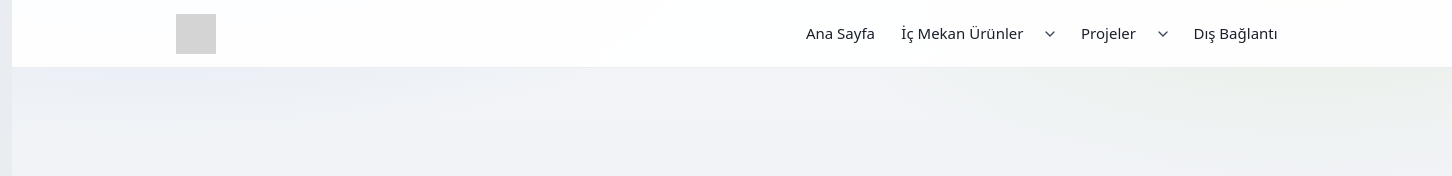
Scenario: SiteHeader › closes dropdown on Escape and outside click
The image size is (1452, 176).
Click the button "İç Mekan Ürünler": [962, 34] box [891, 16, 1034, 52]
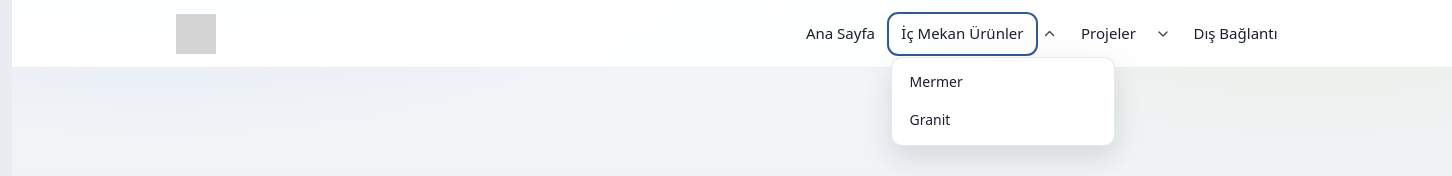
Expected: the link "Mermer" is shown, [910, 72, 963, 91]
Press Escape
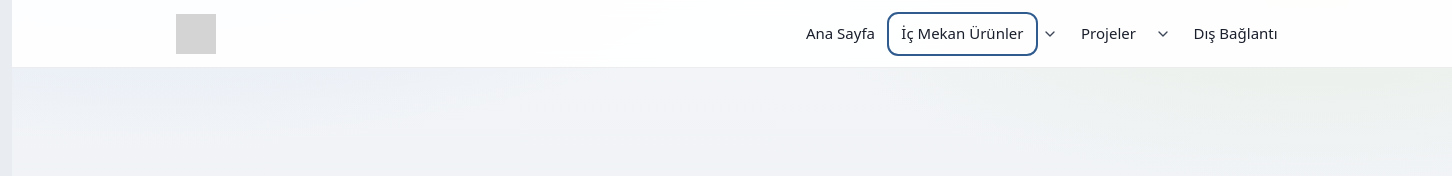
Expected: the link "Mermer" is gone
Click the button "İç Mekan Ürünler": [962, 34] box [891, 16, 1034, 52]
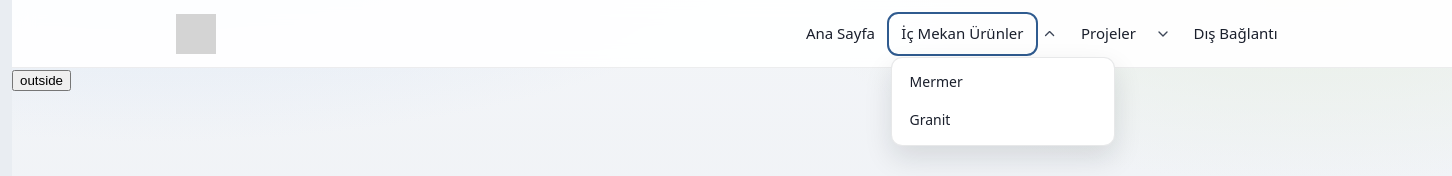
Expected: the link "Mermer" is shown, [910, 72, 963, 91]
Click the button "outside": [42, 81] box [12, 70, 71, 91]
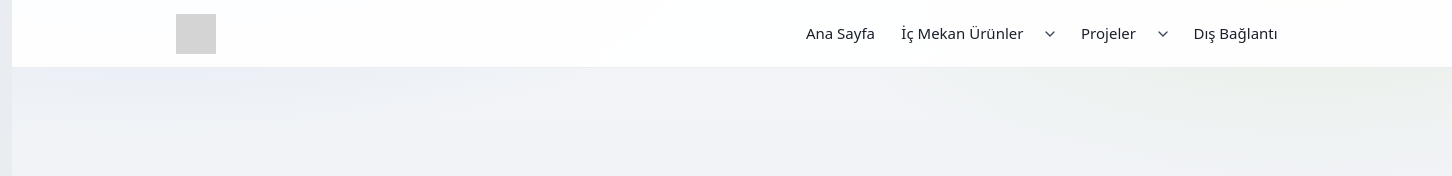
Expected: the link "Mermer" is gone
